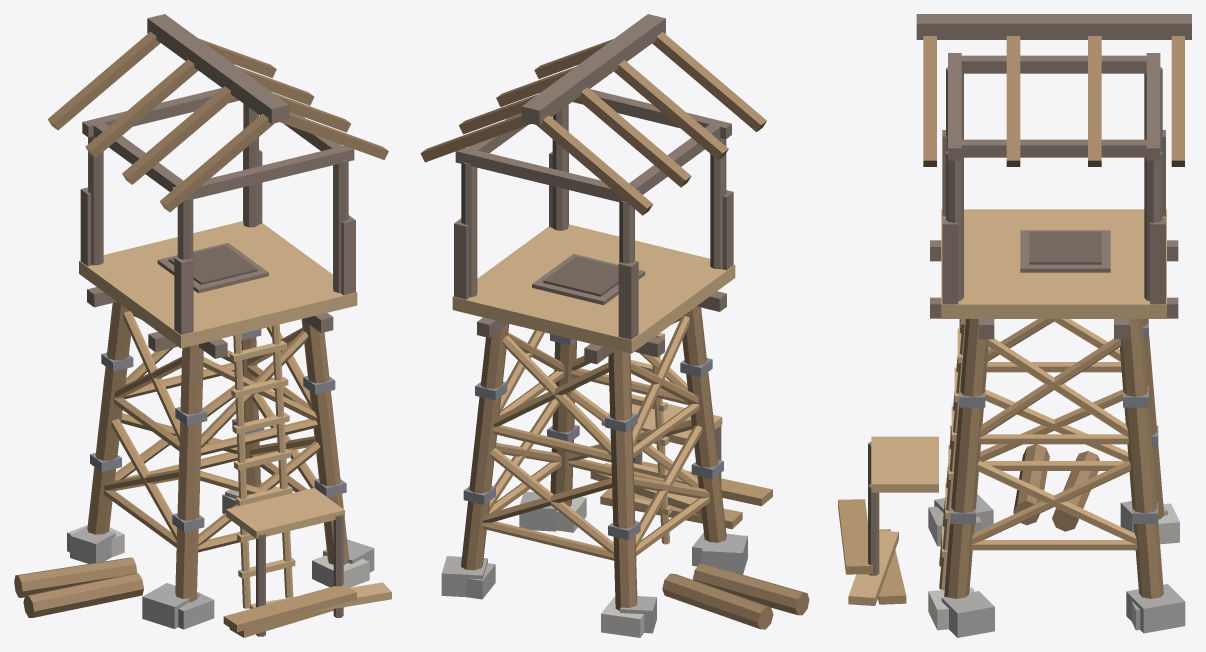
The model's file is site_ws_watch_tower_cheap.glb.
3 views of the same model, side by side, from view 1: azimuth 30°, elevation 25°; view 2: azimuth 150°, elevation 25°; view 3: azimuth 270°, elevation 25° (orthographic). The views are drawn at different scales.
Parts seen in each view (by area): view 1: platform@3, rafters@3, legs@1-3, ~planks@0-2, braces1@1-3, braces2@2-3, ladder@2-3, base@0-3, ~scaffold@1-2, stubs@0; view 2: platform@3, rafters@3, legs@1-3, braces1@1-3, braces2@2-3, ~planks@0-2, base@0-3, stubs@0, ladder@2-3, ~scaffold@1-2; view 3: platform@3, rafters@3, legs@1-3, braces1@1-3, braces2@2-3, ~planks@0-2, base@0-3, ~scaffold@1-2, stubs@0, ladder@2-3.
Part boxes in pixels (x1=…): platform@3: x1=79, y1=88, x2=357, y2=358; rafters@3: x1=47, y1=14, x2=388, y2=212; legs@1-3: x1=88, y1=302, x2=348, y2=601; ~planks@0-2: x1=14, y1=557, x2=391, y2=637; braces1@1-3: x1=103, y1=385, x2=320, y2=552; braces2@2-3: x1=114, y1=311, x2=317, y2=455; ladder@2-3: x1=230, y1=324, x2=295, y2=608; base@0-3: x1=67, y1=482, x2=374, y2=629; ~scaffold@1-2: x1=226, y1=488, x2=344, y2=636; stubs@0: x1=87, y1=419, x2=348, y2=602; platform@3: x1=452, y1=89, x2=735, y2=364; rafters@3: x1=420, y1=14, x2=766, y2=215; legs@1-3: x1=461, y1=306, x2=725, y2=610; braces1@1-3: x1=482, y1=389, x2=709, y2=560; braces2@2-3: x1=492, y1=316, x2=699, y2=462; ~planks@0-2: x1=590, y1=461, x2=809, y2=629; base@0-3: x1=441, y1=491, x2=747, y2=637; stubs@0: x1=461, y1=426, x2=726, y2=607; ladder@2-3: x1=608, y1=333, x2=671, y2=544; ~scaffold@1-2: x1=601, y1=404, x2=722, y2=486; platform@3: x1=930, y1=53, x2=1178, y2=339; rafters@3: x1=916, y1=14, x2=1191, y2=166; legs@1-3: x1=944, y1=319, x2=1163, y2=598; braces1@1-3: x1=971, y1=389, x2=1137, y2=550; braces2@2-3: x1=979, y1=319, x2=1128, y2=444; ~planks@0-2: x1=838, y1=444, x2=1099, y2=605; base@0-3: x1=928, y1=494, x2=1185, y2=637; ~scaffold@1-2: x1=868, y1=436, x2=938, y2=575; stubs@0: x1=944, y1=426, x2=1163, y2=598; ladder@2-3: x1=939, y1=319, x2=965, y2=589.
Bounding box in the file's own units: 1.76 × 2.74 × 1.57.
